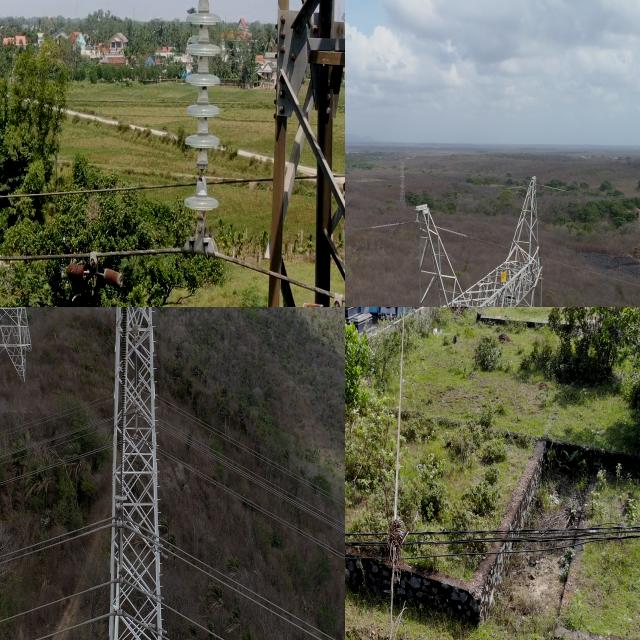杆塔: (369, 172, 549, 307), (107, 307, 164, 640), (398, 156, 412, 224)
正常电缆: (173, 542, 342, 640), (166, 550, 325, 640), (0, 580, 103, 630), (0, 524, 109, 569), (0, 517, 108, 559), (0, 447, 108, 486), (3, 612, 103, 640), (172, 604, 235, 640)
正常绝缘子: (178, 0, 217, 250), (536, 275, 544, 307)
电缆破损: (371, 479, 417, 640)
绝缘子破损: (196, 152, 209, 185)
